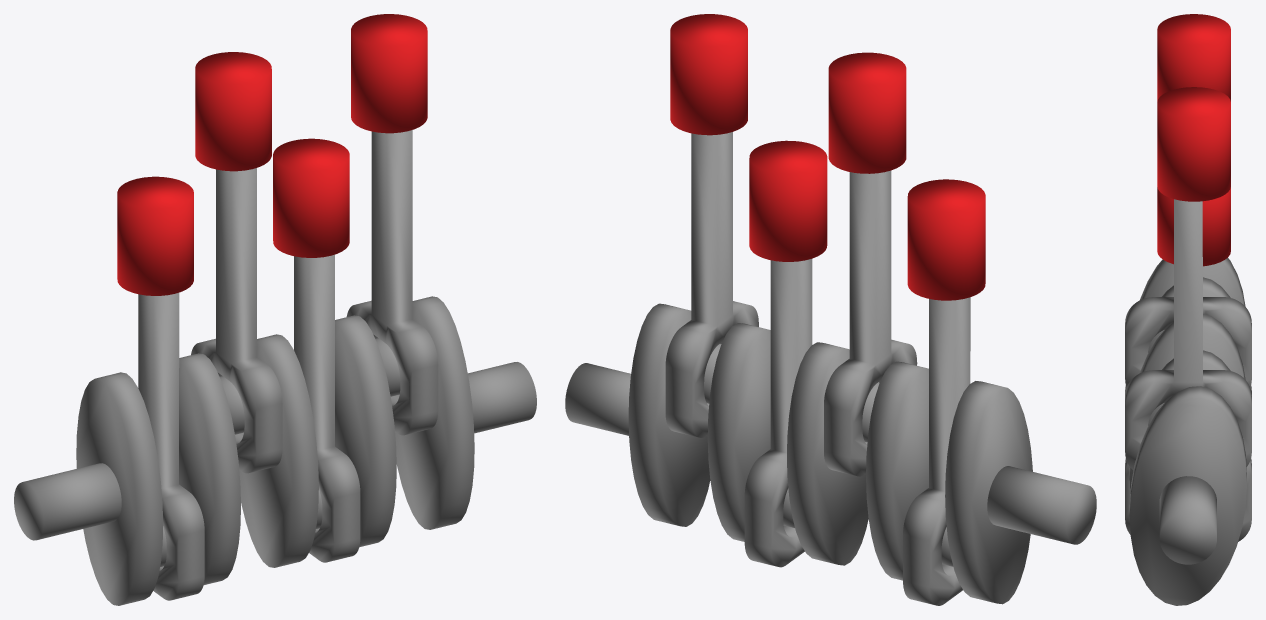
File: engine1.glb
3 renders of one model, left to right at view 1: azimuth 30°, elevation 25°; view 2: azimuth 150°, elevation 25°; view 3: azimuth 270°, elevation 25°, orthographic. The views are drawn at different scales.
Parts seen in each view (by area): view 1: Cylinder, conrod.04, conrod.02, conrod.003, conrod.001, piston.02, piston.001, piston.04, piston.003; view 2: Cylinder, conrod.02, conrod.04, conrod.001, conrod.003, piston.02, piston.003, piston.001, piston.04; view 3: Cylinder, conrod.04, piston.04, piston.02, conrod.02, piston.001, conrod.001.
Part boxes in pixels (x1,y1,x2,y2): Cylinder: [14, 296, 536, 605]; conrod.04: [346, 130, 438, 435]; conrod.02: [191, 168, 282, 473]; conrod.003: [138, 292, 204, 600]; conrod.001: [294, 254, 360, 562]; piston.02: [195, 52, 271, 171]; piston.001: [273, 138, 349, 257]; piston.04: [351, 14, 427, 133]; piston.003: [117, 176, 193, 295]; Cylinder: [565, 303, 1096, 604]; conrod.02: [824, 170, 917, 476]; conrod.04: [665, 132, 758, 437]; conrod.001: [744, 259, 812, 567]; conrod.003: [903, 297, 970, 605]; piston.02: [828, 52, 906, 173]; piston.003: [907, 179, 985, 300]; piston.001: [749, 140, 827, 261]; piston.04: [670, 14, 747, 135]; Cylinder: [1129, 258, 1246, 605]; conrod.04: [1125, 199, 1251, 470]; piston.04: [1157, 87, 1230, 201]; piston.02: [1157, 14, 1230, 101]; conrod.02: [1125, 297, 1251, 386]; piston.001: [1157, 187, 1230, 266]; conrod.001: [1125, 458, 1251, 541].
Size of the model in its own units: 19 by 18.35 by 4.4.
